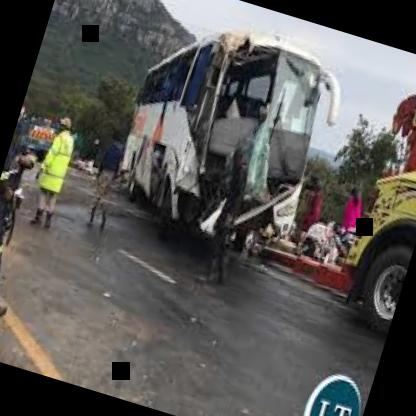accident: (67, 0, 373, 303)
